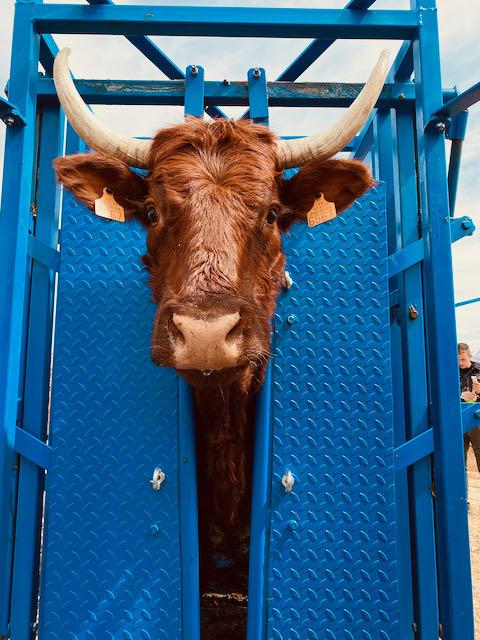muzzles: (149, 300, 267, 380)
